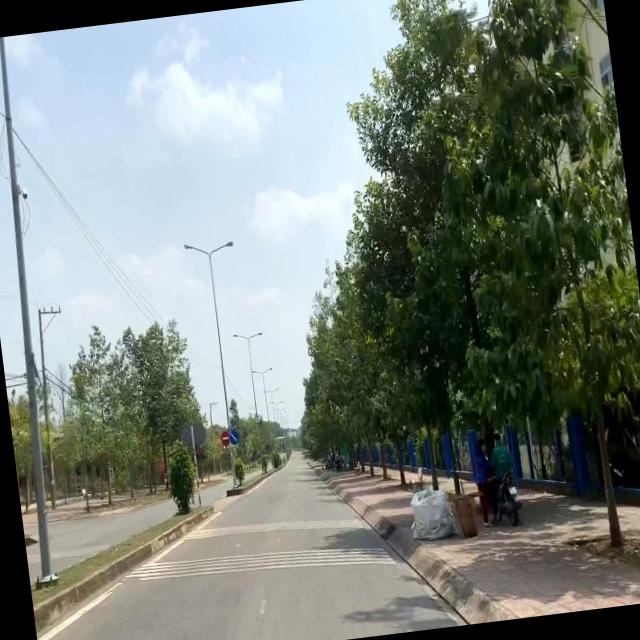P-102: (220, 429, 230, 448)
R-302a: (228, 428, 238, 444)
